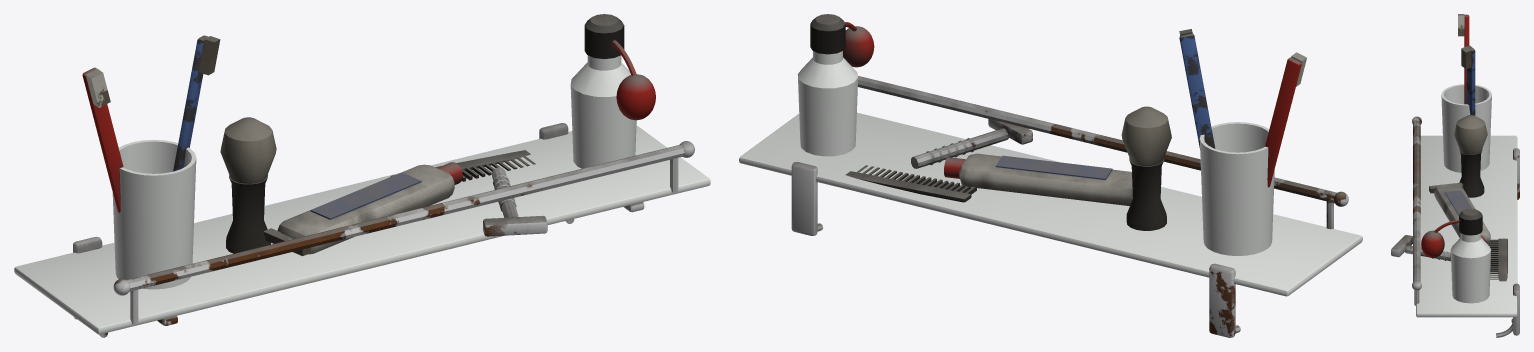
The model's file is SM_BathShelf_Glass.fbx.
The picture shows the model from 3 angles, left to right: view 1: azimuth 30°, elevation 25°; view 2: azimuth 150°, elevation 25°; view 3: azimuth 270°, elevation 25°; orthographic projection. The views are drawn at different scales.
Parts seen in each view (by area): view 1: SM_BathShelf_Glass; view 2: SM_BathShelf_Glass; view 3: SM_BathShelf_Glass.
Part boxes in pixels (<box>): SM_BathShelf_Glass: <box>14,14,710,337</box>; SM_BathShelf_Glass: <box>739,14,1362,337</box>; SM_BathShelf_Glass: <box>1391,14,1519,337</box>.
Size of the model in its own units: 0.5 by 0.2326 by 0.1526.
2 materials, 1 textured.
